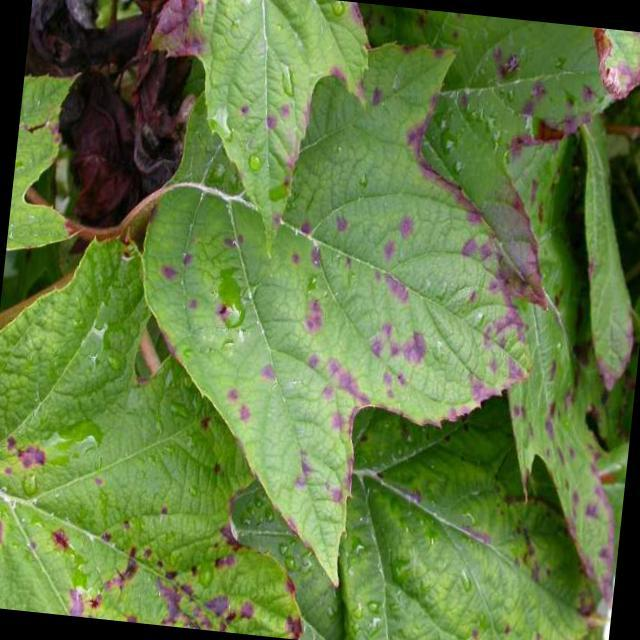Tomato leaf bacterial spot: (142, 123, 570, 536)
